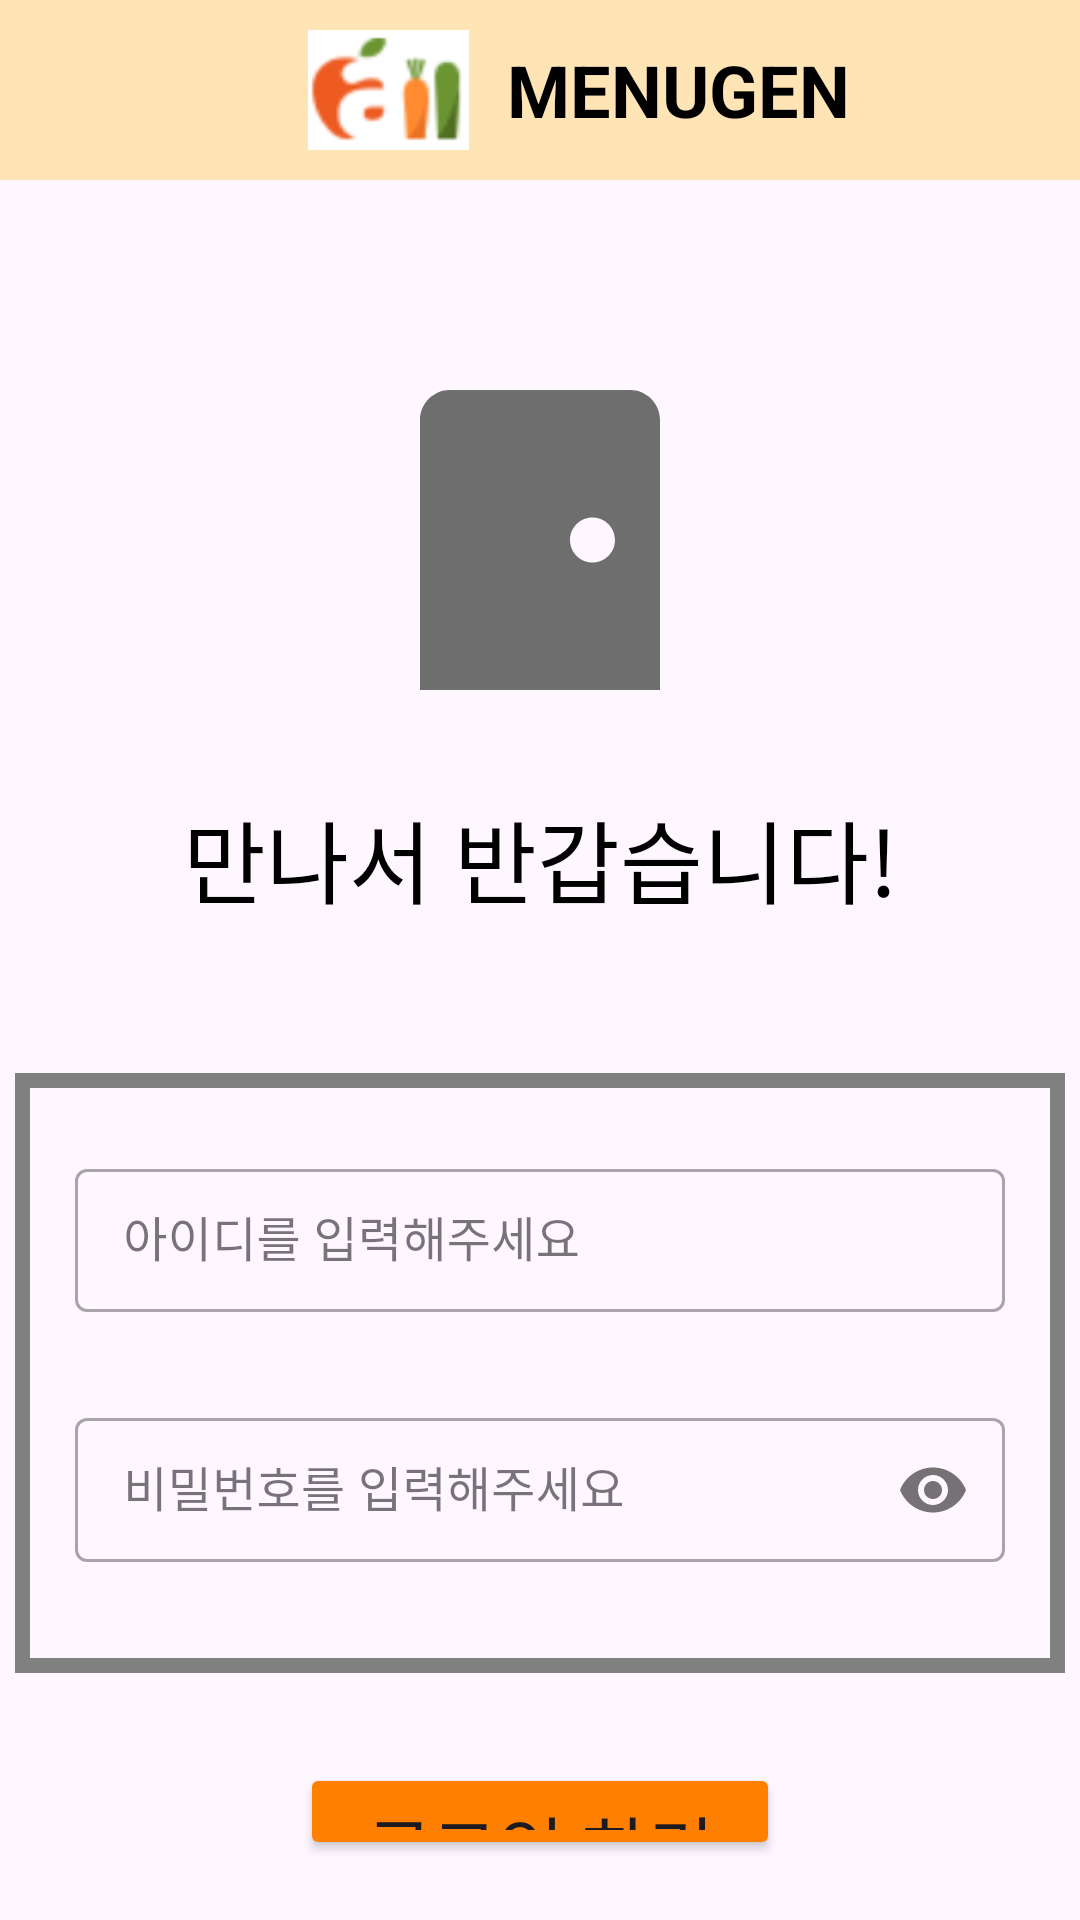

Named icons in this screenshot (1080 × 1920) and their centers, (x=x, y=y):
door: (x=540, y=540)
